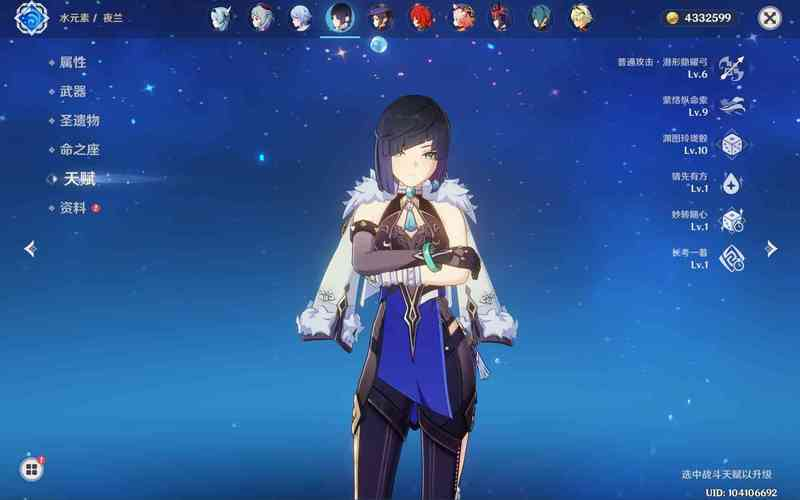夜兰: (346, 95, 492, 499)
